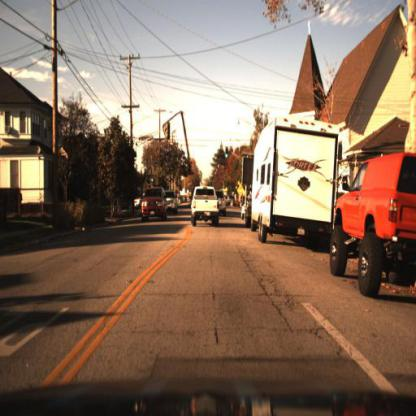car: (328, 151, 416, 295), (189, 185, 222, 231), (138, 183, 169, 223), (164, 188, 181, 216)
trafficLight-Green: (224, 144, 232, 163)
truck: (249, 116, 343, 243), (251, 115, 340, 245)
